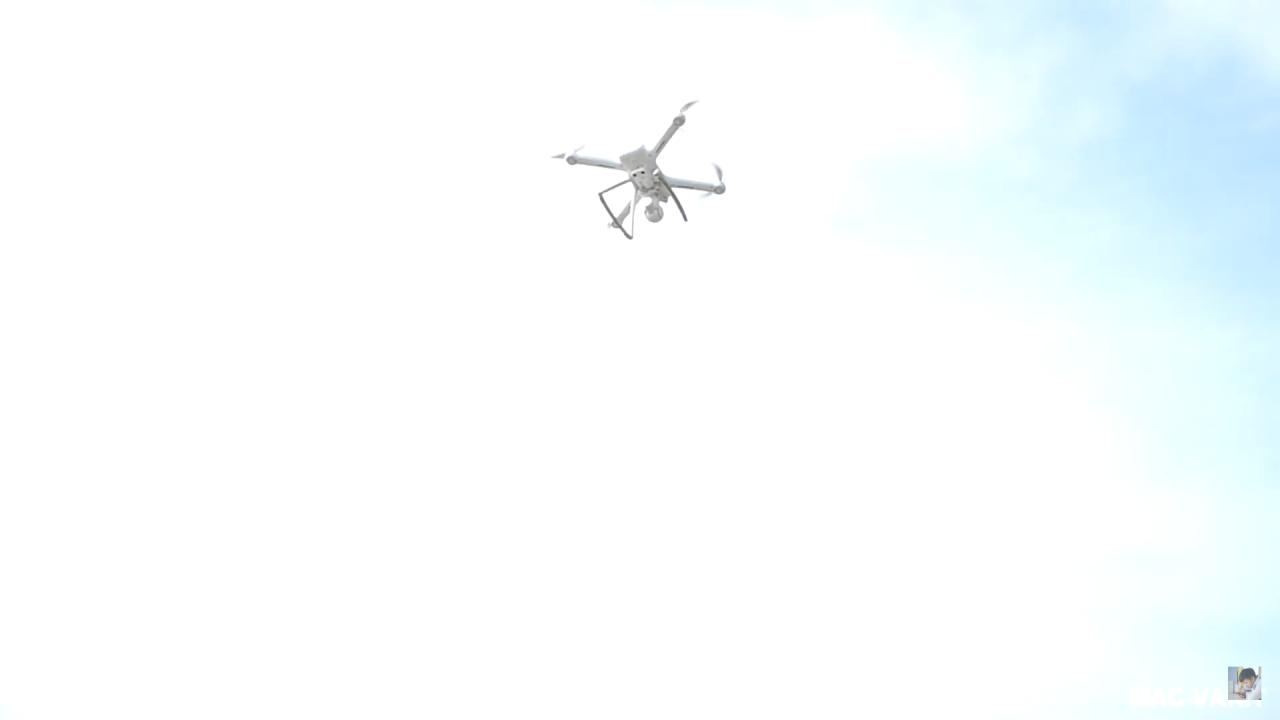Drone: (532, 90, 732, 249)
